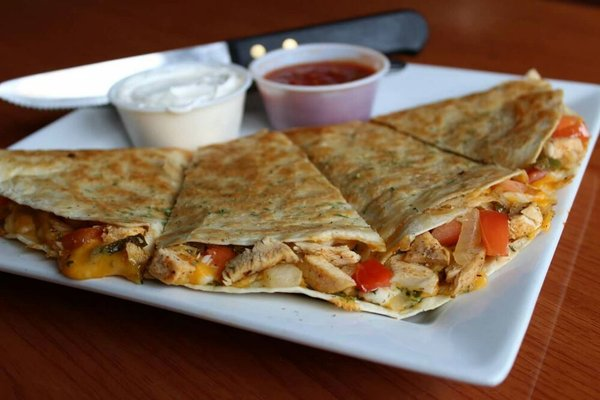pizza: (107, 62, 251, 151)
soup: (280, 80, 589, 315), (146, 129, 378, 301), (0, 145, 192, 283)
sushi: (107, 62, 252, 150), (251, 41, 391, 132)
